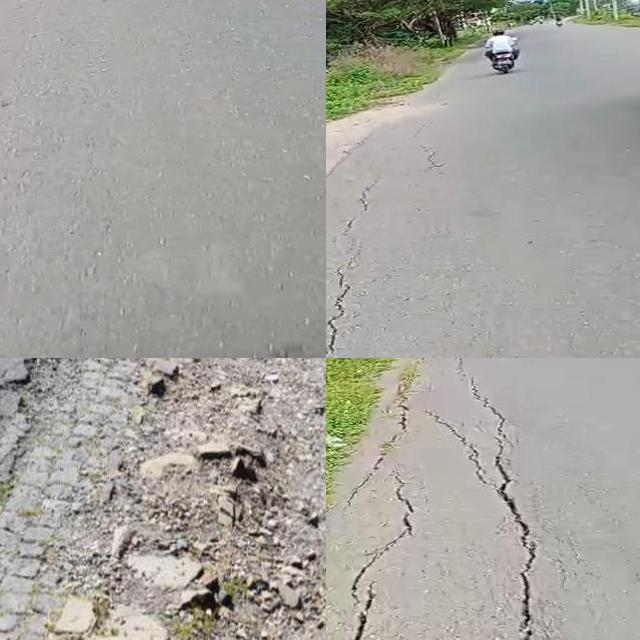Memanjang: (462, 360, 550, 640), (326, 468, 429, 640), (326, 179, 391, 358)
Pinggir: (0, 358, 184, 640)
